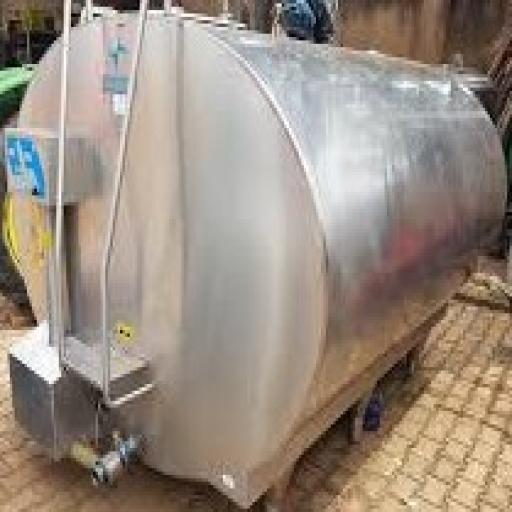silo: (2, 3, 505, 509)
